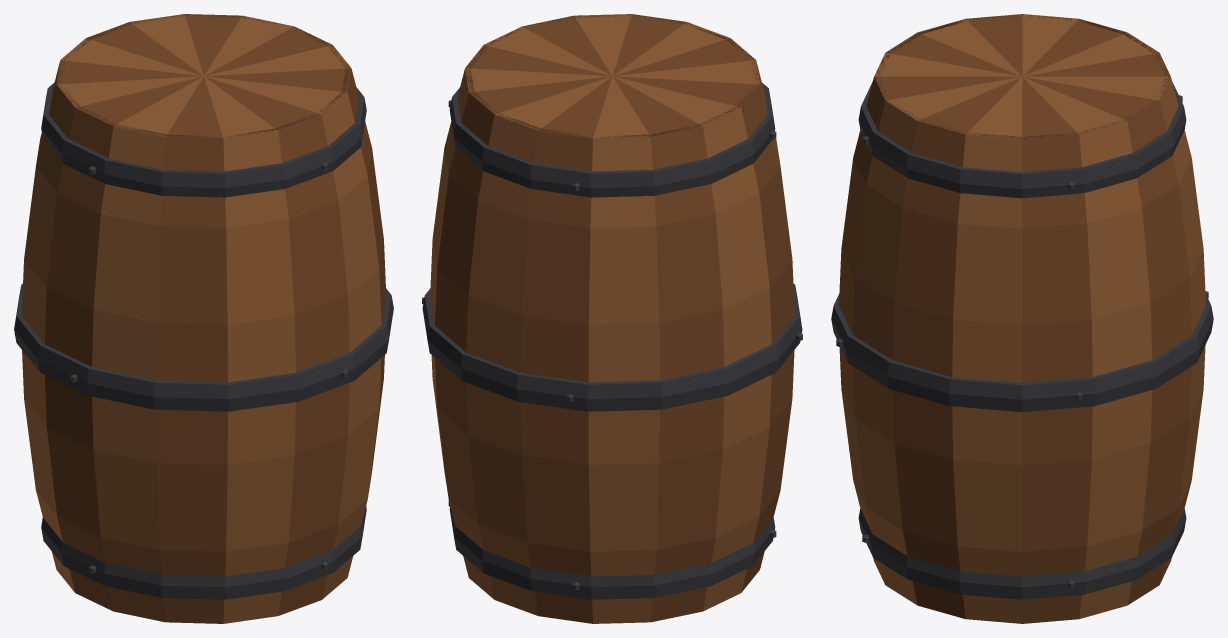
File: barrel.obj
3 views of the same model, side by side, from view 1: azimuth 30°, elevation 25°; view 2: azimuth 150°, elevation 25°; view 3: azimuth 270°, elevation 25° (orthographic).
Parts seen in each view (by area): view 1: lathe, lathe.006, lathe.011, lathe.001, lathe.016; view 2: lathe, lathe.006, lathe.011, lathe.001, lathe.016; view 3: lathe, lathe.006, lathe.011, lathe.001, lathe.016.
Boxes of the visible parts, x1,y1,x2,y2 form: lathe: [21, 14, 386, 623]; lathe.006: [14, 283, 393, 411]; lathe.011: [41, 82, 366, 197]; lathe.001: [41, 506, 366, 599]; lathe.016: [57, 14, 350, 138]; lathe: [430, 14, 794, 623]; lathe.006: [422, 283, 802, 411]; lathe.011: [449, 83, 775, 197]; lathe.001: [449, 506, 775, 599]; lathe.016: [465, 14, 759, 138]; lathe: [839, 14, 1205, 623]; lathe.006: [831, 294, 1213, 412]; lathe.011: [858, 81, 1186, 198]; lathe.001: [858, 508, 1186, 599]; lathe.016: [874, 14, 1169, 139].
Size of the model in its own units: 0.644 by 0.9 by 0.644.
